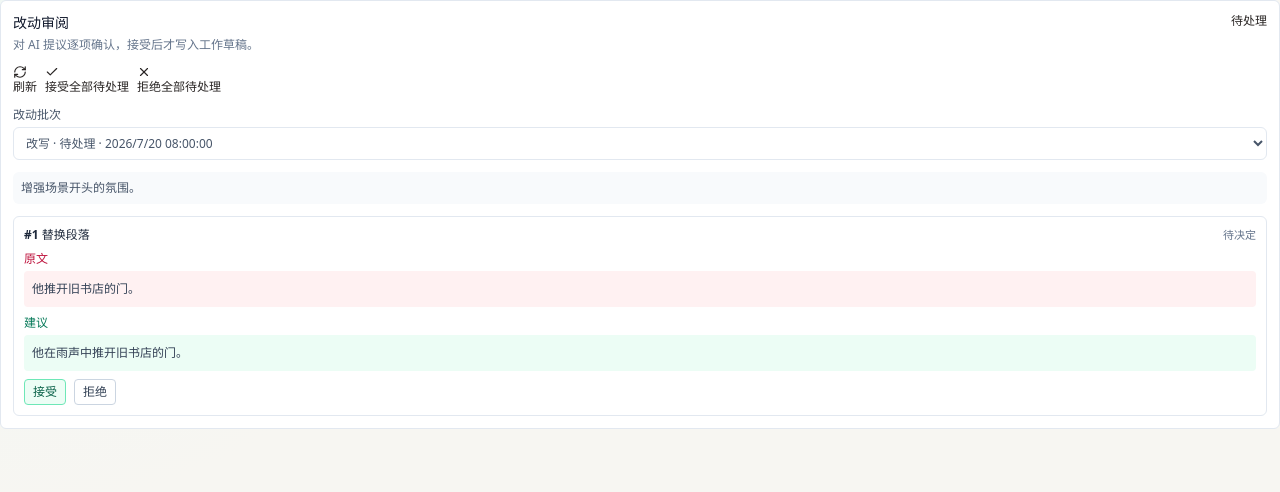
Scenario: ChangeSetReviewPanel › refreshes the draft and proposals after a revision conflict
Expected: the text "增强场景开头的氛围。" is shown, x1=13 y1=172 x2=1267 y2=204
What coordinates should you click on to do the following:
click the button "接受"
I would click on:
 (45, 392)
Its box is x1=24 y1=379 x2=66 y2=405.
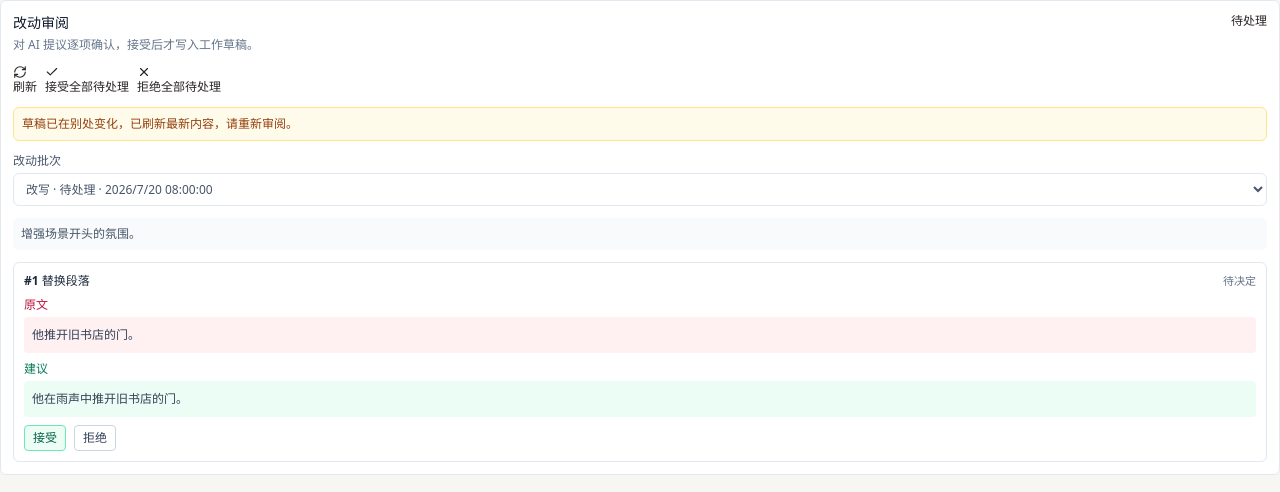
Result: the text "草稿已在别处变化，已刷新最新内容，请重新审阅。" is shown at x1=13 y1=107 x2=1267 y2=141
